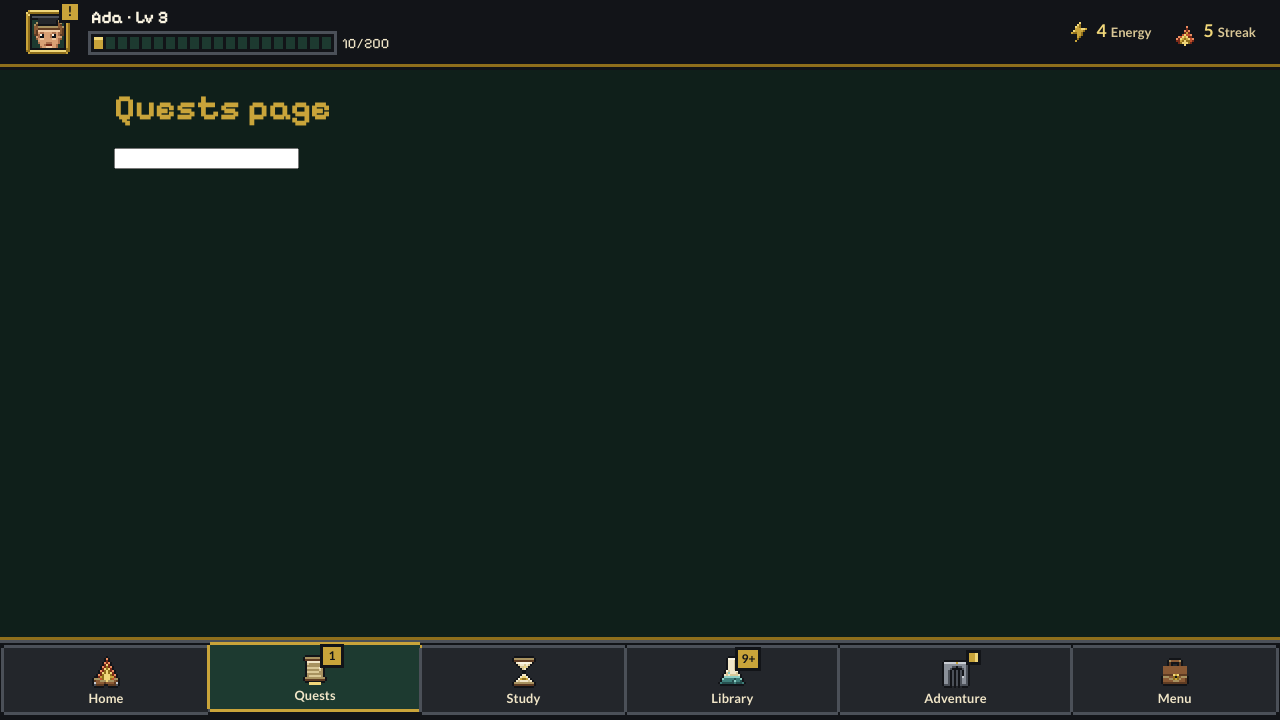
Scenario: Menu overlay › closes after a link is followed and moves focus to the page
Check: the text "Ada · Lv 3" is shown, box top-left (91, 9), bottom-right (168, 28)
Click the button "Menu" at (1175, 680), box top-left (1073, 648), bottom-right (1276, 712)
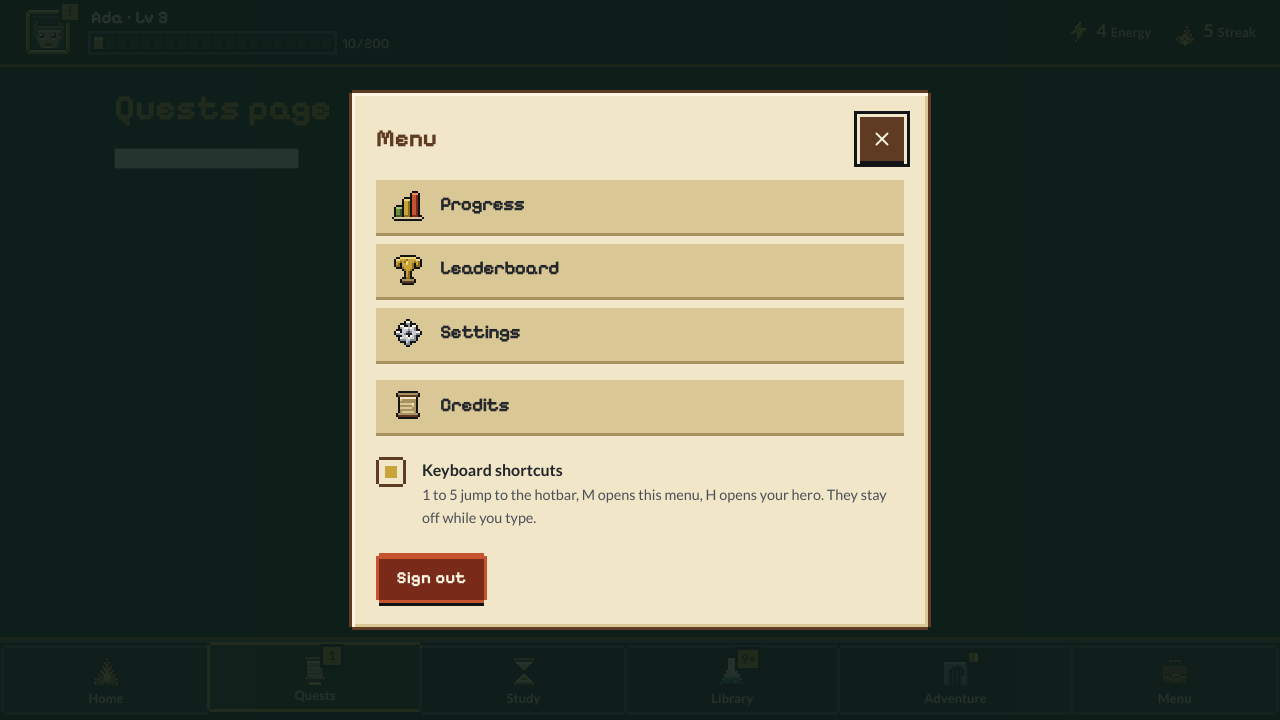
Click the link "Progress" at (408, 205), box top-left (376, 177), bottom-right (904, 233)
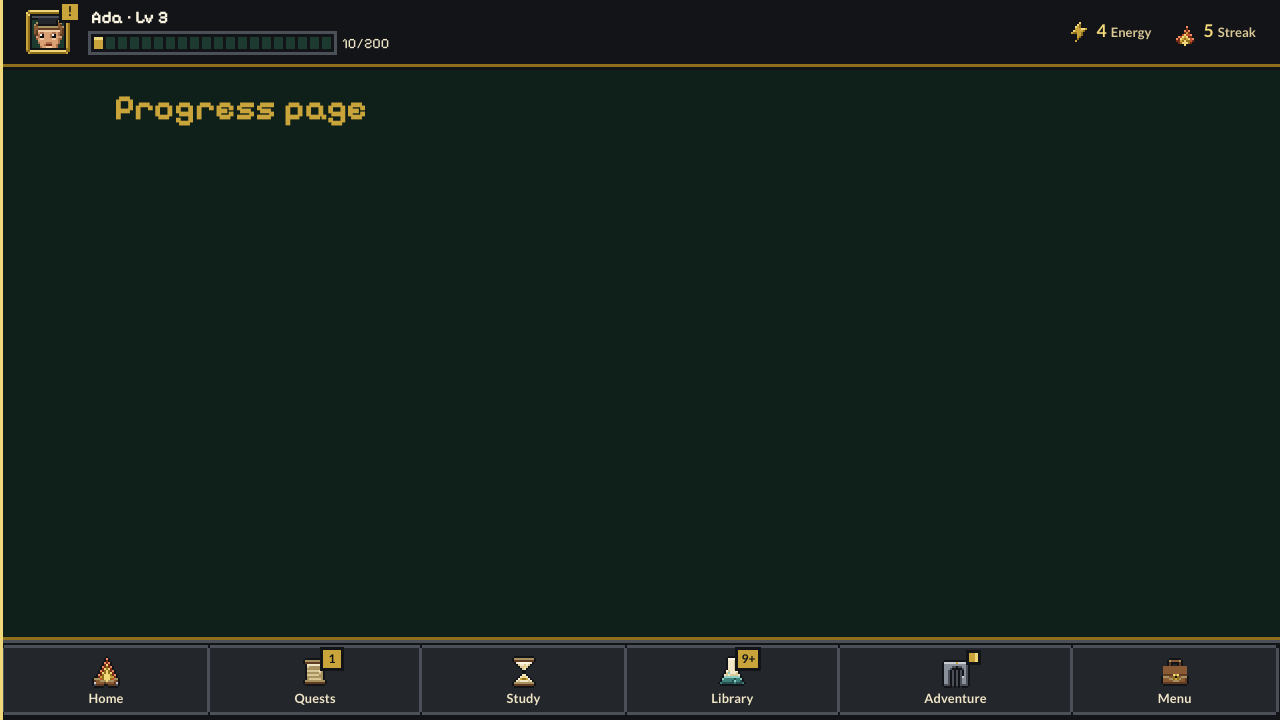
Check: the heading "Progress page" is shown, box top-left (114, 88), bottom-right (367, 128)
Check: the dialog is gone
